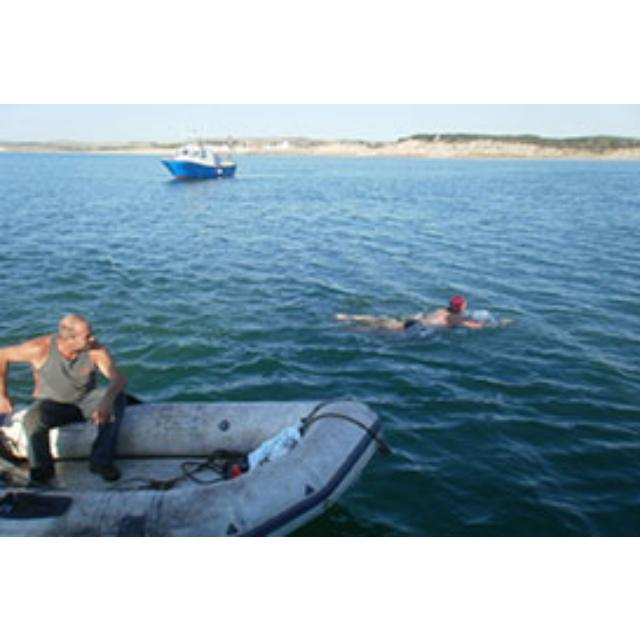human: (340, 297, 511, 336)
